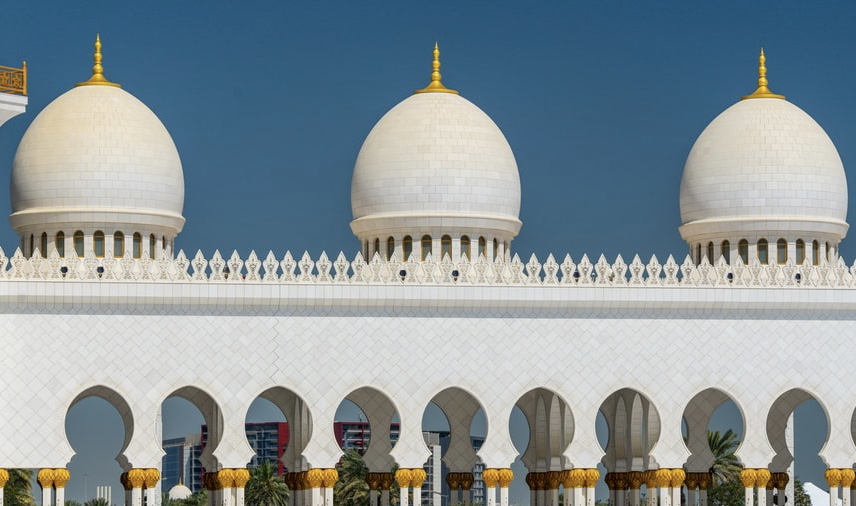Mosque: (9, 23, 856, 506)
